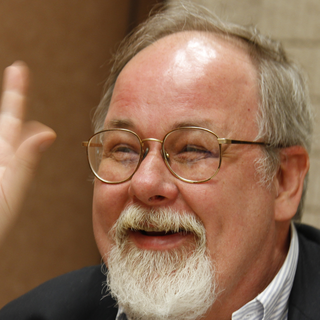eye: (174, 141, 217, 164), (106, 141, 140, 160)
